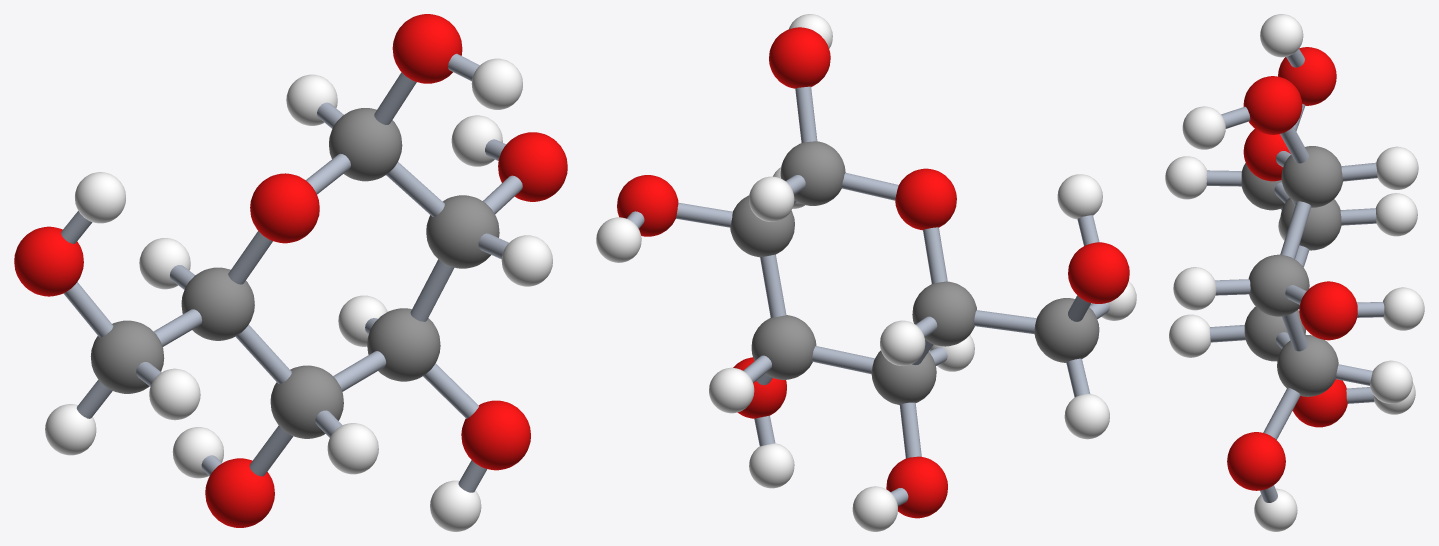
Rendered from glucose.glb.
3 views of the same model, side by side, from view 1: azimuth 30°, elevation 25°; view 2: azimuth 150°, elevation 25°; view 3: azimuth 270°, elevation 25° (orthographic). The views are drawn at different scales.
Visible parts, largest first — view 1: H (×12), C (×6), O (×6), bond (×13); view 2: C (×6), O (×6), H (×11), bond (×8); view 3: H (×11), O (×6), C (×6), bond (×13).
Part boxes in pixels (x1=…): H (×12): x1=45, y1=58, x2=552, y2=531; C (×6): x1=90, y1=108, x2=499, y2=438; O (×6): x1=14, y1=14, x2=567, y2=527; bond (×13): x1=63, y1=72, x2=522, y2=476; C (×6): x1=730, y1=141, x2=1099, y2=404; O (×6): x1=617, y1=27, x2=1129, y2=518; H (×11): x1=596, y1=14, x2=1136, y2=531; bond (×8): x1=676, y1=86, x2=1036, y2=458; H (×11): x1=1165, y1=14, x2=1424, y2=531; O (×6): x1=1227, y1=47, x2=1357, y2=490; C (×6): x1=1241, y1=146, x2=1342, y2=396; bond (×13): x1=1206, y1=106, x2=1384, y2=439.
Bounding box in the file's own units: 0.22 × 0.1966 × 0.1054.
